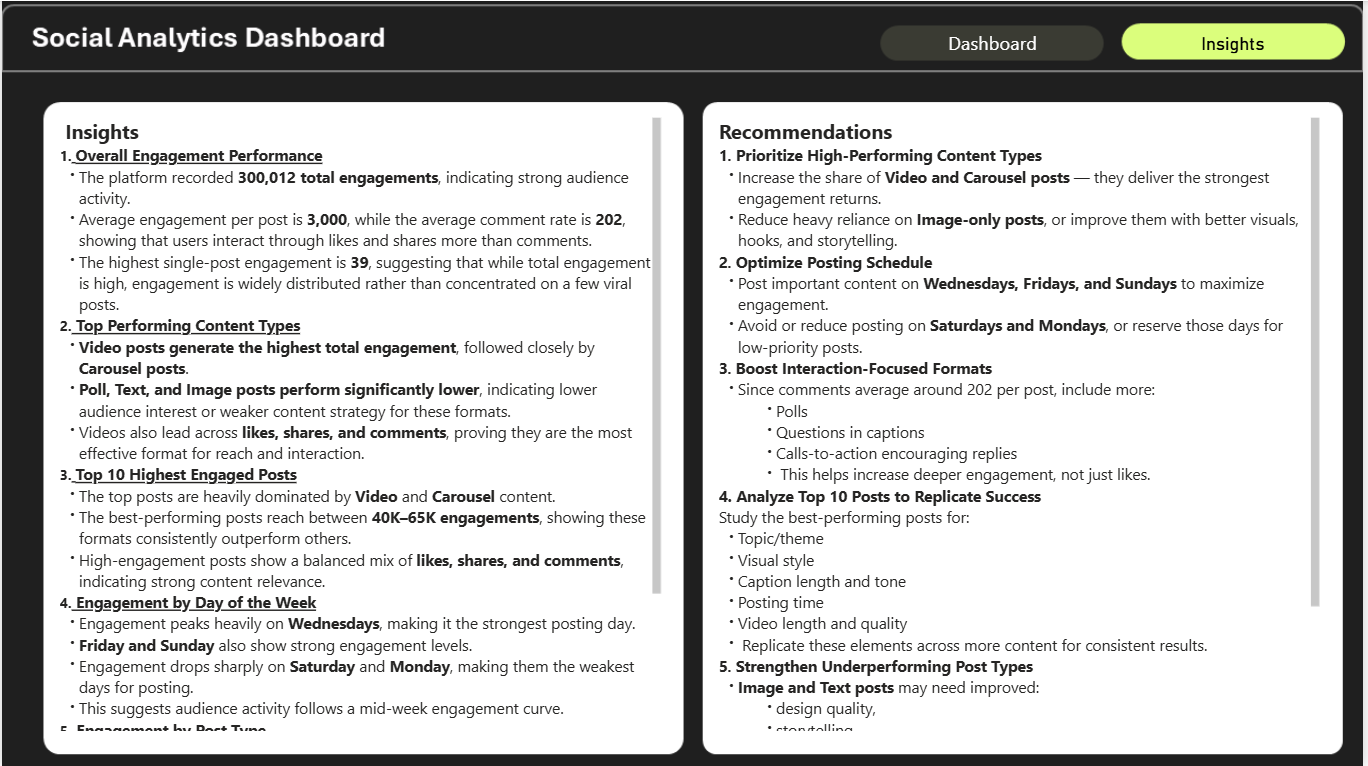

Layout of this report page (visuals, bound fields, positions):
{"tool":"powerbi","page":{"name":"Insights","canvas":[1280,720],"ordinal":1},"visuals":[{"type":"actionButton","box":[1060.9,19.2,193.3,39.9],"z":0},{"type":"actionButton","box":[830.8,19.2,201.3,39.9],"z":1000},{"type":"textbox","box":[49.5,103.8,575.2,586.3],"z":2000},{"type":"textbox","box":[667.8,103.8,575.2,586.3],"z":3000}]}

Visuals, with their boxes in screenshot pixels (x1, y1, x2, y2), scaled from the page's 1280x720 canvas onto the 1368x766 screenshot:
actionButton: (left=1134, top=20, right=1340, bottom=63)
actionButton: (left=888, top=20, right=1103, bottom=63)
textbox: (left=53, top=110, right=668, bottom=734)
textbox: (left=714, top=110, right=1328, bottom=734)
